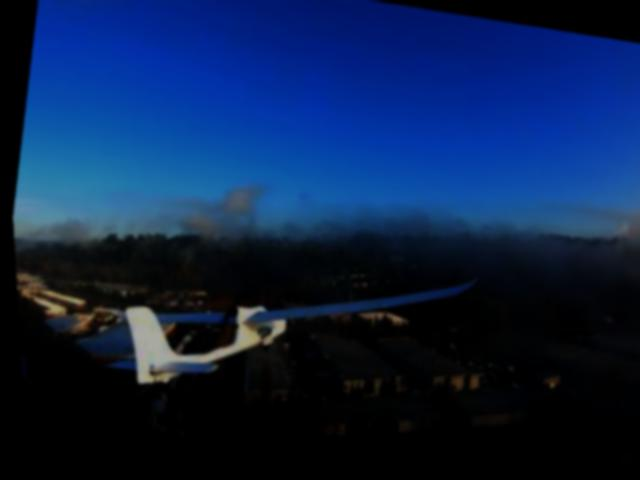uav: (76, 201, 492, 462)
